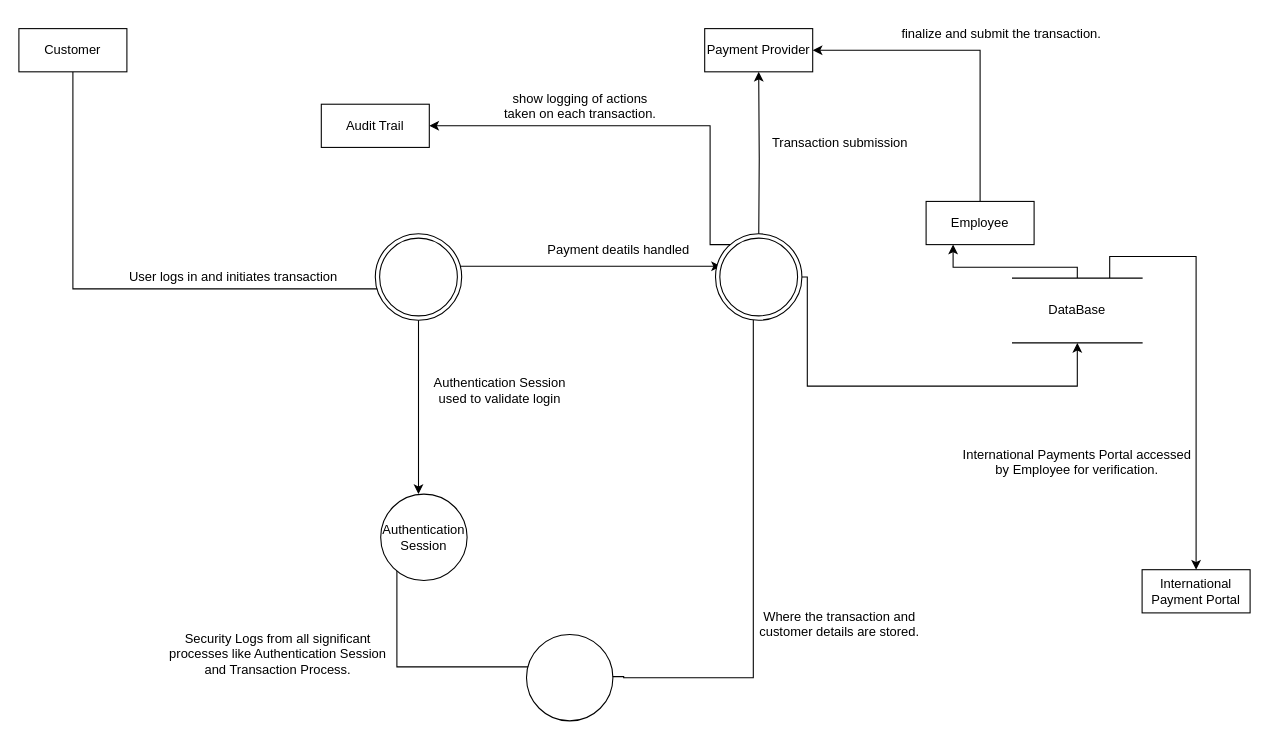
Image size: 1269x740. Some labels were removed from this diagram. The box of each missing label's shape, as (x1, y1, x2, y2) in pixels:
Bank Onlines Session: (374, 233, 462, 320)
Security Logs: (525, 633, 613, 721)
Transaction Process: (714, 233, 802, 320)
